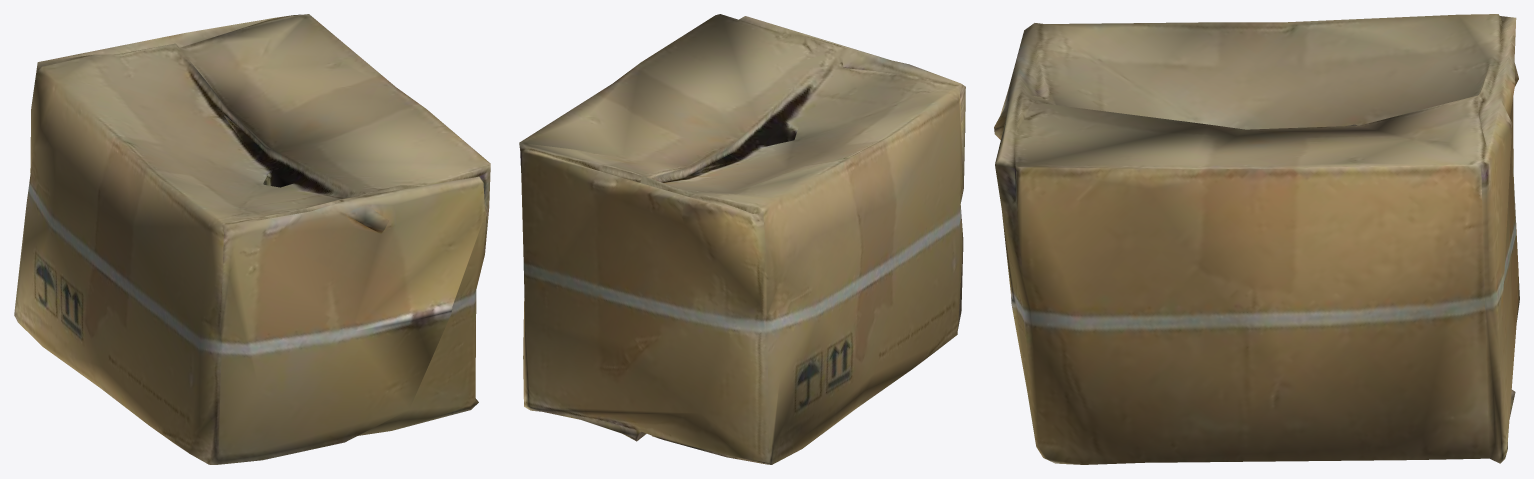
The model's file is cardboard_box_01.glb.
3 renders of one model, left to right at view 1: azimuth 30°, elevation 25°; view 2: azimuth 150°, elevation 25°; view 3: azimuth 270°, elevation 25°, orthographic. The views are drawn at different scales.
Parts seen in each view (by area): view 1: cardboard_box_01; view 2: cardboard_box_01; view 3: cardboard_box_01.
Boxes of the visible parts, <box> form: cardboard_box_01: <box>14,14,490,464</box>; cardboard_box_01: <box>519,14,965,464</box>; cardboard_box_01: <box>994,14,1519,464</box>.
Bounding box in the file's own units: 0.3827 × 0.3394 × 0.5159.
1 material, 1 textured.
